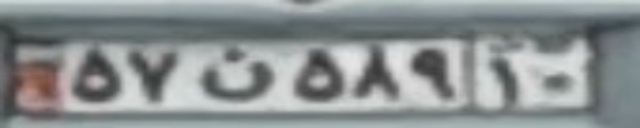0: (535, 71, 577, 93)
1: (489, 54, 518, 103)
5: (288, 43, 340, 100), (73, 47, 119, 99)
7: (124, 47, 178, 103)
8: (350, 43, 403, 99)
9: (412, 46, 458, 97)
non: (194, 46, 274, 100)
